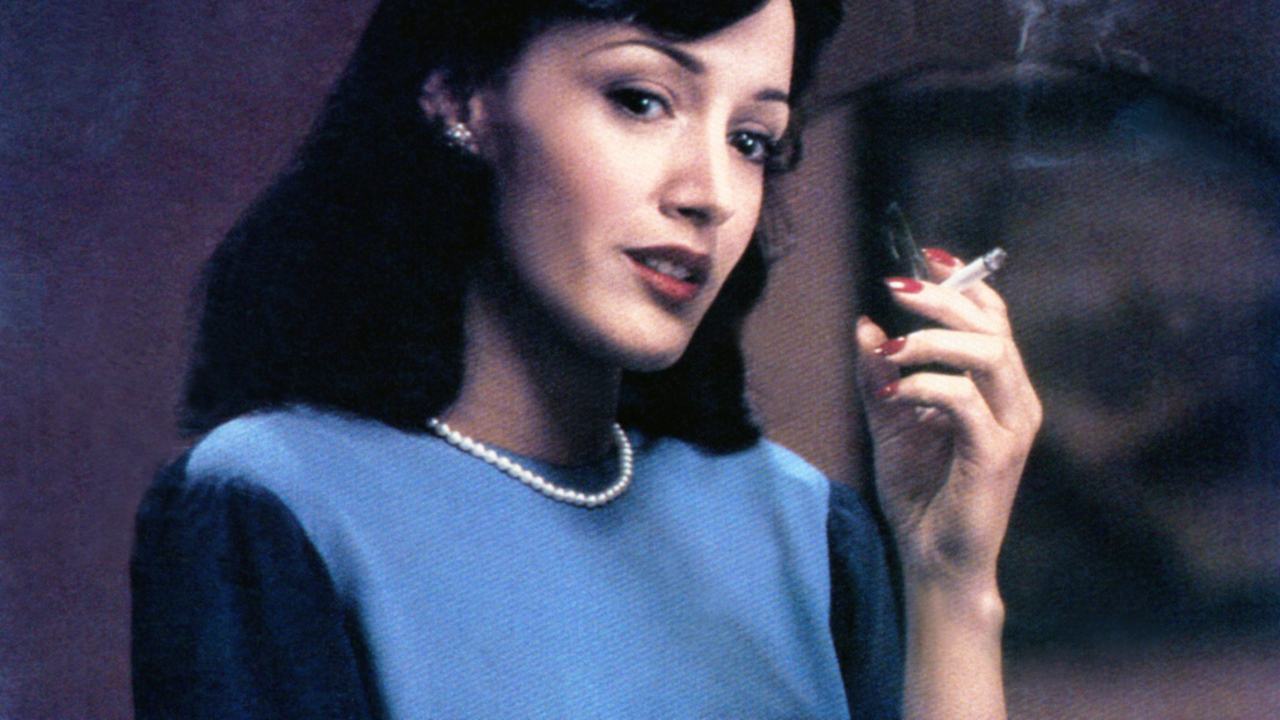cigarette: (917, 233, 1009, 308)
